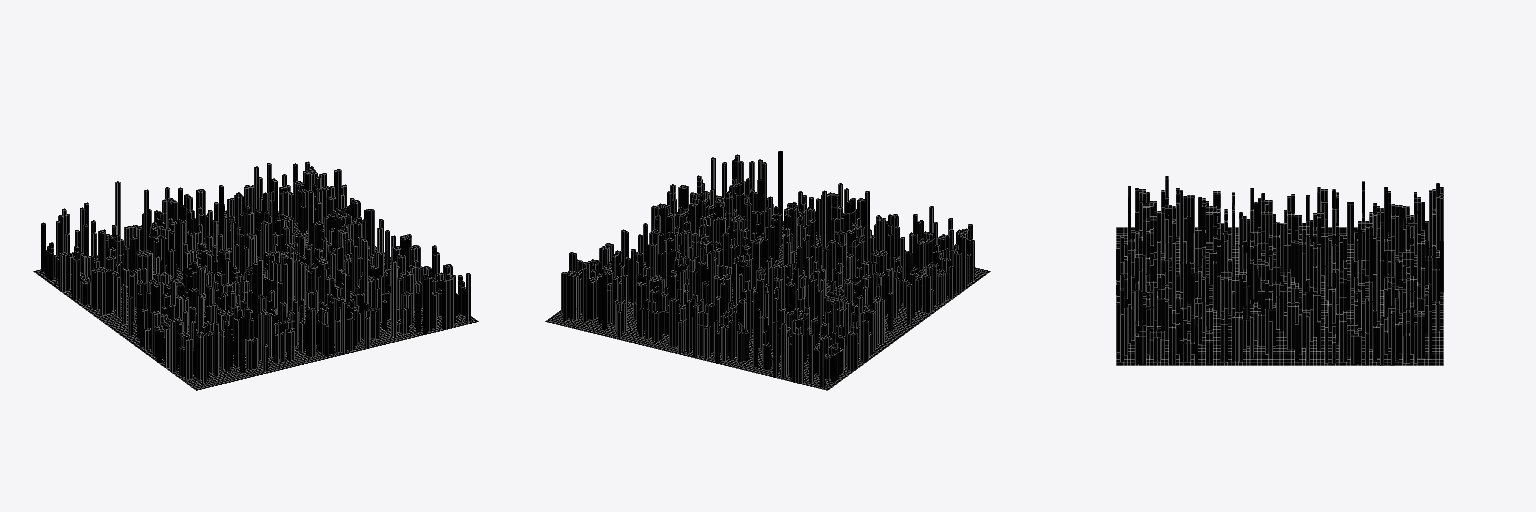
3 renders of one model, left to right at view 1: azimuth 30°, elevation 25°; view 2: azimuth 150°, elevation 25°; view 3: azimuth 270°, elevation 25°, orthographic.
Visible parts, largest first — view 1: Plane.003_Plane.004; view 2: Plane.003_Plane.004; view 3: Plane.003_Plane.004.
Part boxes in pixels (bbox=[...]): Plane.003_Plane.004: bbox=[33, 161, 478, 390]; Plane.003_Plane.004: bbox=[545, 151, 990, 390]; Plane.003_Plane.004: bbox=[1116, 176, 1443, 365].
Size of the model in its own units: 114 by 31.21 by 114.
1 materials, 1 textured.